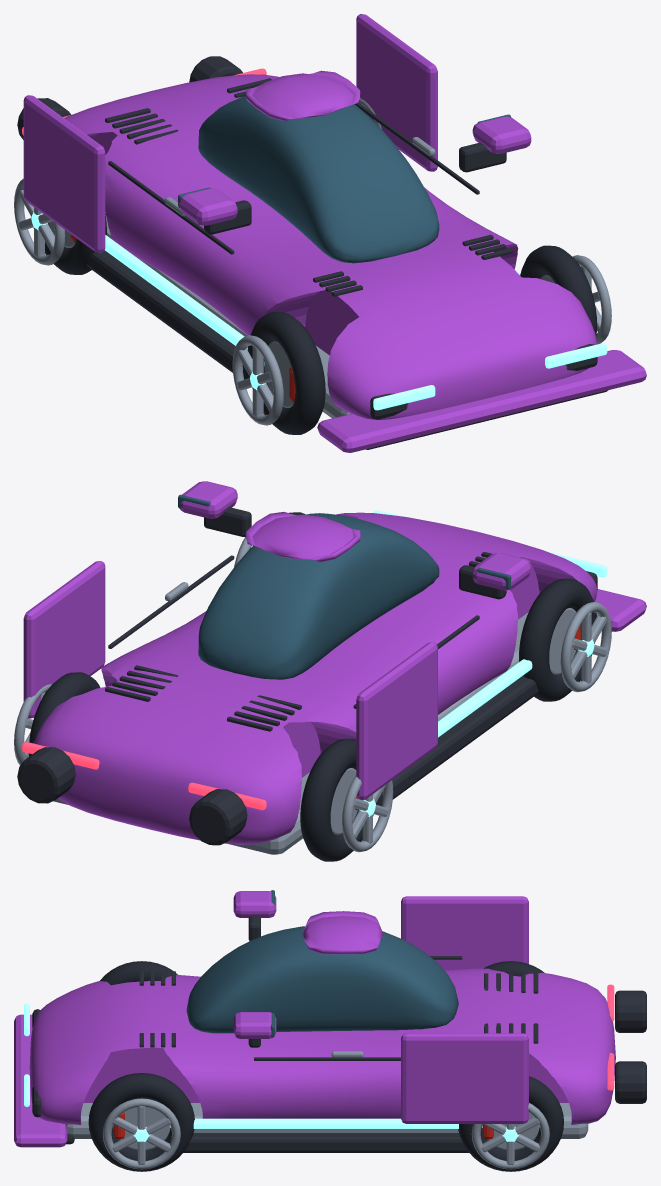
Rendered from Phantom.fbx.
3 renders of one model, top to bottom at view 1: azimuth 30°, elevation 25°; view 2: azimuth 150°, elevation 25°; view 3: azimuth 270°, elevation 25°, orthographic. The views are drawn at different scales.
Visible parts, largest first — view 1: Body_Phantom, Glass_Cockpit, Body_AeroFin, Body_FrontWing, Body_AeroFin.001, Wheel_LFront, Carbon_SideSkirt, Body_Roof, Wheel_RFront, Trim_Sill, WheelRim_LFront, Body_Mirror (+13 smaller); view 2: Body_Phantom, Glass_Cockpit, Body_AeroFin, Body_AeroFin.001, Wheel_LFront, Wheel_LRear, Body_Roof, Carbon_SideSkirt, Exhaust_Nozzle.001, Exhaust_Nozzle, WheelRim_LFront, Body_Undertray (+14 smaller); view 3: Body_Phantom, Glass_Cockpit, Body_AeroFin.001, Body_AeroFin, Carbon_SideSkirt.001, Wheel_RFront, Body_Roof, Body_FrontWing, Trim_Sill.001, Wheel_RRear, Body_Undertray, WheelRim_RFront (+9 smaller).
Part boxes in pixels (x1=…): Body_Phantom: x1=64, y1=74, x2=596, y2=419; Glass_Cockpit: x1=198, y1=96, x2=439, y2=263; Body_AeroFin: x1=23, y1=95, x2=105, y2=252; Body_FrontWing: x1=317, y1=350, x2=646, y2=452; Body_AeroFin.001: x1=356, y1=14, x2=437, y2=171; Wheel_LFront: x1=247, y1=312, x2=325, y2=434; Carbon_SideSkirt: x1=87, y1=250, x2=249, y2=379; Body_Roof: x1=245, y1=70, x2=360, y2=120; Wheel_RFront: x1=520, y1=245, x2=596, y2=336; Trim_Sill: x1=105, y1=235, x2=264, y2=365; WheelRim_LFront: x1=232, y1=335, x2=283, y2=425; Body_Mirror: x1=179, y1=188, x2=237, y2=225; Body_Phantom: x1=33, y1=512, x2=597, y2=844; Glass_Cockpit: x1=198, y1=513, x2=439, y2=679; Body_AeroFin: x1=356, y1=642, x2=437, y2=799; Body_AeroFin.001: x1=23, y1=561, x2=105, y2=718; Wheel_LFront: x1=519, y1=578, x2=596, y2=701; Wheel_LRear: x1=300, y1=738, x2=376, y2=861; Body_Roof: x1=245, y1=512, x2=360, y2=562; Carbon_SideSkirt: x1=376, y1=676, x2=538, y2=806; Exhaust_Nozzle.001: x1=17, y1=747, x2=75, y2=803; Exhaust_Nozzle: x1=189, y1=789, x2=247, y2=845; WheelRim_LFront: x1=560, y1=602, x2=611, y2=692; Body_Undertray: x1=53, y1=612, x2=528, y2=854; Body_Phantom: x1=29, y1=968, x2=615, y2=1124; Glass_Cockpit: x1=186, y1=926, x2=458, y2=1033; Body_AeroFin.001: x1=401, y1=1033, x2=528, y2=1123; Body_AeroFin: x1=401, y1=896, x2=528, y2=970; Carbon_SideSkirt.001: x1=183, y1=1133, x2=468, y2=1152; Wheel_RFront: x1=88, y1=1073, x2=194, y2=1171; Body_Roof: x1=302, y1=911, x2=383, y2=954; Body_FrontWing: x1=14, y1=1014, x2=67, y2=1147; Trim_Sill.001: x1=170, y1=1118, x2=482, y2=1128; Wheel_RRear: x1=458, y1=1076, x2=563, y2=1171; Body_Undertray: x1=65, y1=1103, x2=588, y2=1138; WheelRim_RFront: x1=102, y1=1098, x2=180, y2=1169.
Bounding box in the file's own units: 188 × 118 × 356.
